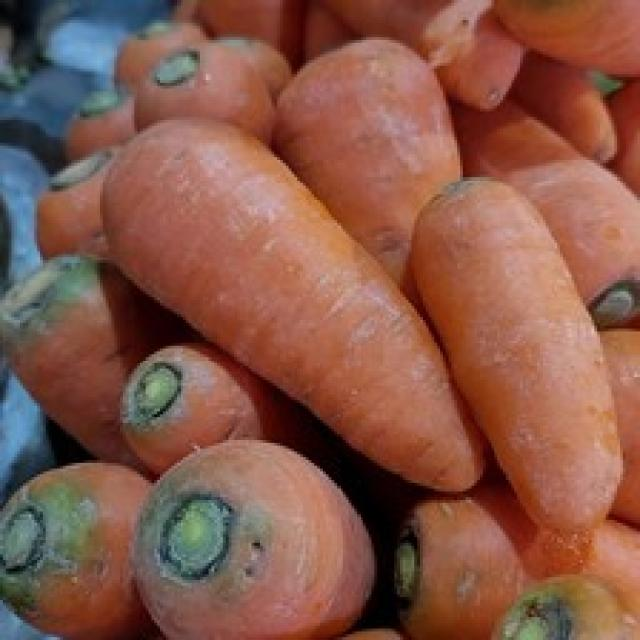Fresh_Carrot: (136, 128, 354, 350), (427, 231, 588, 412)
